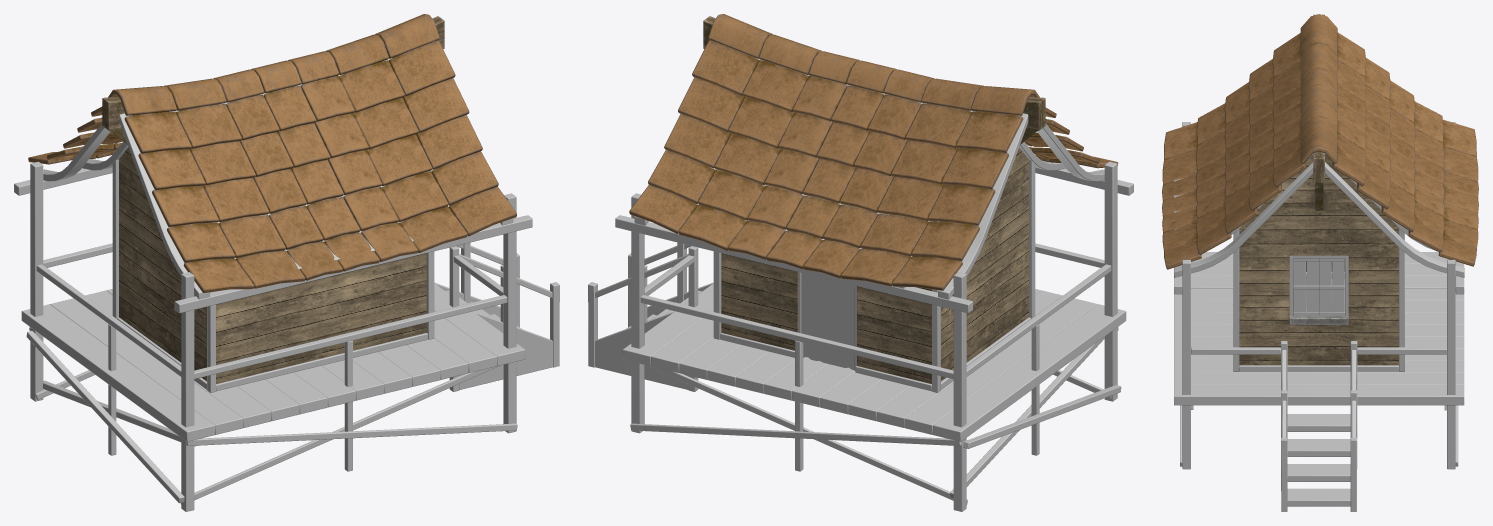
3 renders of one model, left to right at view 1: azimuth 30°, elevation 25°; view 2: azimuth 150°, elevation 25°; view 3: azimuth 270°, elevation 25°, orthographic. The views are drawn at different scales.
Visible parts, largest first — view 1: rumah_desa; view 2: rumah_desa; view 3: rumah_desa.
Boxes of the visible parts, x1=… form: rumah_desa: x1=14, y1=14, x2=559, y2=511; rumah_desa: x1=588, y1=14, x2=1133, y2=511; rumah_desa: x1=1162, y1=14, x2=1478, y2=511.
Size of the model in its own units: 810 by 635 by 574.
